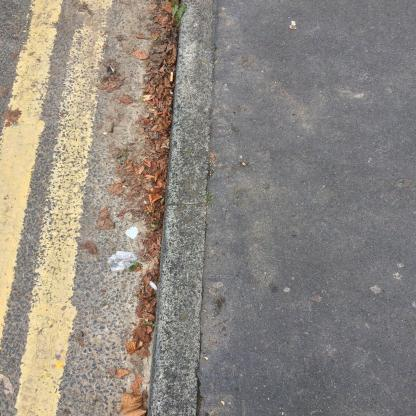trash: (106, 249, 140, 272)
